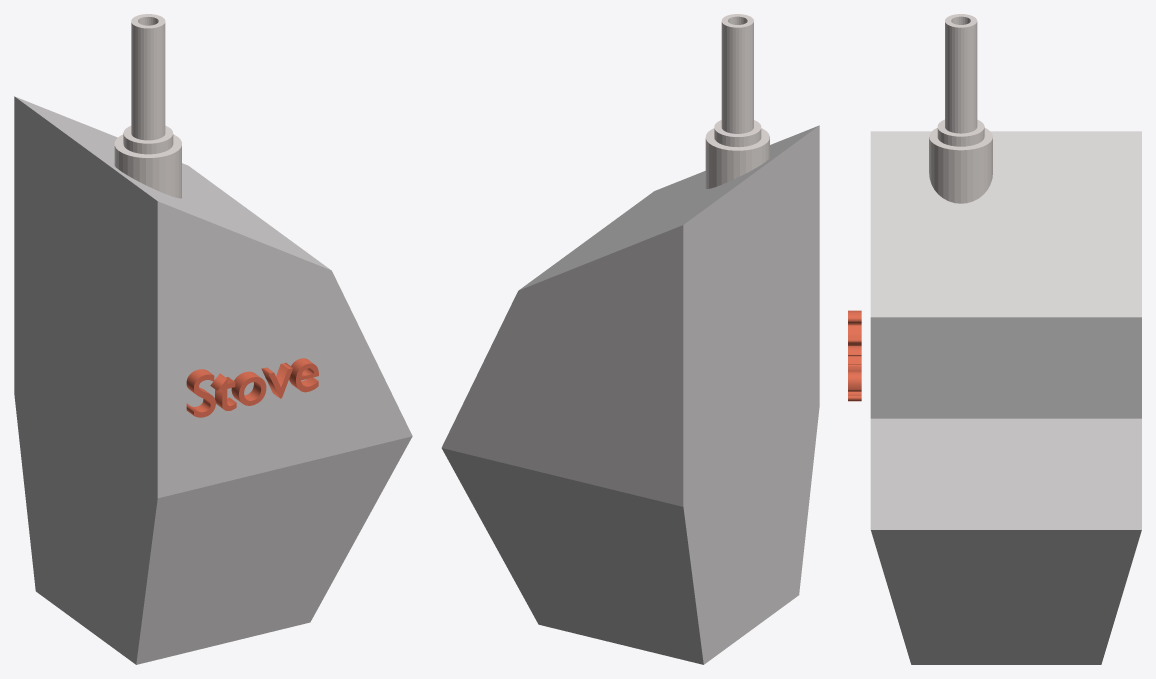
The model's file is MobileStove.fbx.
3 views of the same model, side by side, from view 1: azimuth 30°, elevation 25°; view 2: azimuth 150°, elevation 25°; view 3: azimuth 270°, elevation 25° (orthographic). The views are drawn at different scales.
Parts seen in each view (by area): view 1: Cube, Cylinder, Text; view 2: Cube, Cylinder; view 3: Cube, Cylinder, Text.
Boxes of the visible parts, x1=… form: Cube: x1=14, y1=96, x2=412, y2=664; Cylinder: x1=114, y1=14, x2=181, y2=198; Text: x1=186, y1=358, x2=318, y2=417; Cube: x1=441, y1=125, x2=819, y2=664; Cylinder: x1=705, y1=14, x2=769, y2=188; Cube: x1=870, y1=131, x2=1141, y2=664; Cylinder: x1=929, y1=14, x2=992, y2=203; Text: x1=848, y1=310, x2=861, y2=401.
Size of the model in its own units: 445 by 1026 by 470.
